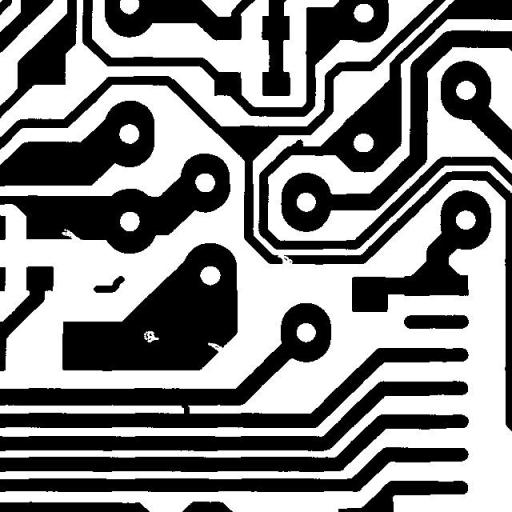copper: (86, 268, 132, 300)
mousebite: (54, 221, 90, 249), (200, 334, 230, 360)
open: (270, 244, 300, 277)
pin-hole: (136, 323, 166, 350)
short: (174, 395, 196, 424)
spur: (282, 131, 310, 158)
